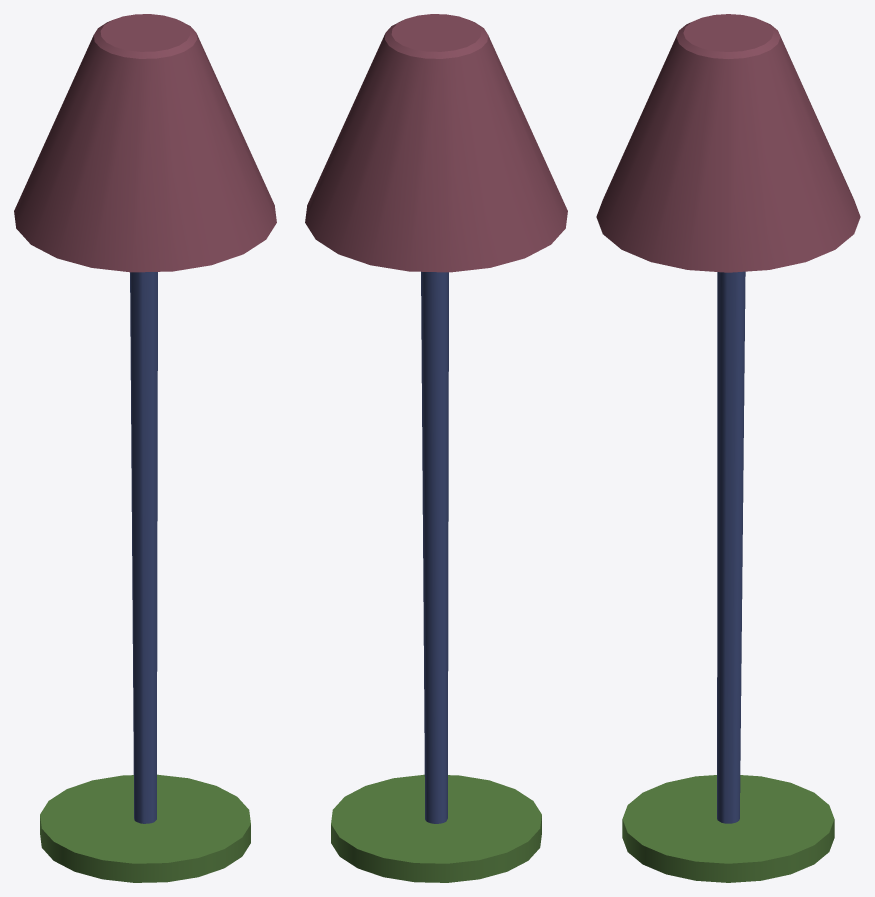
Rendered from floorLamp.fbx.
3 renders of one model, left to right at view 1: azimuth 30°, elevation 25°; view 2: azimuth 150°, elevation 25°; view 3: azimuth 270°, elevation 25°, orthographic.
Parts seen in each view (by area): view 1: floorLamp; view 2: floorLamp; view 3: floorLamp.
Boxes of the visible parts, x1,y1,x2,y2 form: floorLamp: (14,14,276,882); floorLamp: (305,14,567,882); floorLamp: (596,14,860,882).
Bounding box in the file's own units: 0.7063 × 2.37 × 0.7063.
